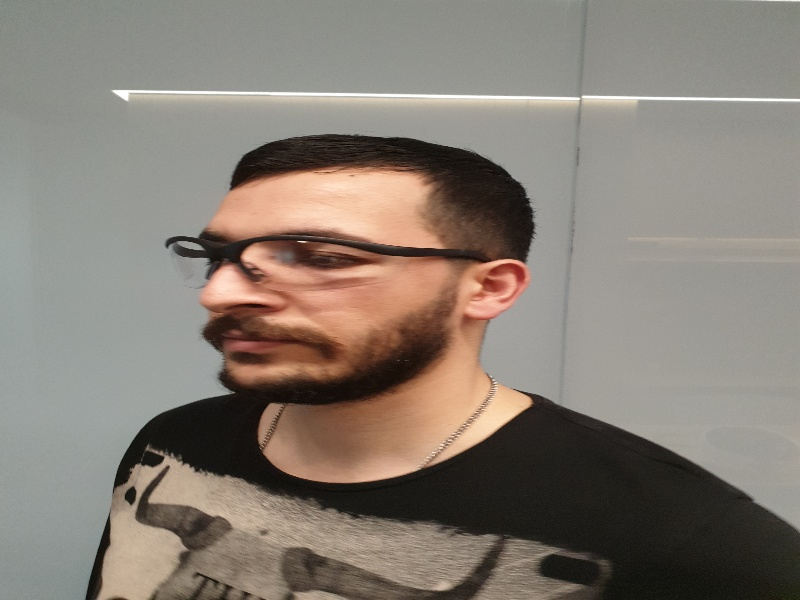Gozluk: (165, 235, 493, 286)
